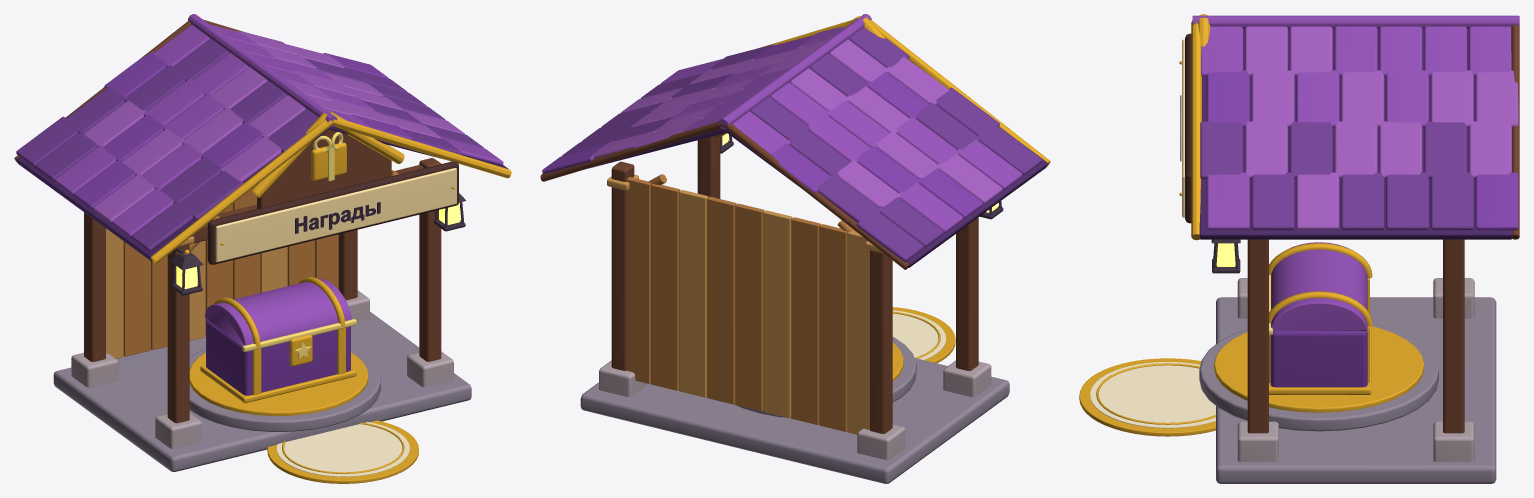
The model's file is Pavilion_Rewards.glb.
The picture shows the model from 3 angles, left to right: view 1: azimuth 30°, elevation 25°; view 2: azimuth 150°, elevation 25°; view 3: azimuth 270°, elevation 25°; orthographic projection. The views are drawn at different scales.
Visible parts, largest first — view 1: Pavilion_Rewards__Roof, Pavilion_Rewards__Structure, Pavilion_Rewards__SignFrame, Pavilion_Rewards__ChestBody, Pavilion_Rewards__Marker, Pavilion_Rewards__ChestLid, Pavilion_Rewards__Emblem, Pavilion_Rewards__Fixtures, Pavilion_Rewards__SignText, Pavilion_Rewards__Glow; view 2: Pavilion_Rewards__Structure, Pavilion_Rewards__Roof, Pavilion_Rewards__Marker; view 3: Pavilion_Rewards__Roof, Pavilion_Rewards__Structure, Pavilion_Rewards__Marker, Pavilion_Rewards__ChestLid, Pavilion_Rewards__ChestBody, Pavilion_Rewards__SignFrame, Pavilion_Rewards__Fixtures.
Boxes of the visible parts, box(x1,y1,x2,y2) form: Pavilion_Rewards__Roof: box(14, 14, 511, 263); Pavilion_Rewards__Structure: box(53, 158, 471, 471); Pavilion_Rewards__SignFrame: box(207, 161, 458, 264); Pavilion_Rewards__ChestBody: box(200, 320, 356, 403); Pavilion_Rewards__Marker: box(267, 420, 418, 483); Pavilion_Rewards__ChestLid: box(205, 277, 356, 351); Pavilion_Rewards__Emblem: box(311, 132, 346, 181); Pavilion_Rewards__Fixtures: box(170, 193, 465, 295); Pavilion_Rewards__SignText: box(295, 202, 380, 233); Pavilion_Rewards__Glow: box(176, 202, 460, 289); Pavilion_Rewards__Structure: box(580, 132, 1009, 483); Pavilion_Rewards__Roof: box(540, 14, 1050, 269); Pavilion_Rewards__Marker: box(892, 307, 955, 363); Pavilion_Rewards__Roof: box(1191, 14, 1519, 240); Pavilion_Rewards__Structure: box(1199, 239, 1496, 483); Pavilion_Rewards__Marker: box(1079, 358, 1215, 436); Pavilion_Rewards__ChestLid: box(1269, 242, 1372, 335); Pavilion_Rewards__ChestBody: box(1269, 278, 1371, 394); Pavilion_Rewards__SignFrame: box(1179, 33, 1191, 223); Pavilion_Rewards__Fixtures: box(1211, 239, 1240, 273).
Size of the model in its own units: 13.14 by 11.49 by 11.93.
